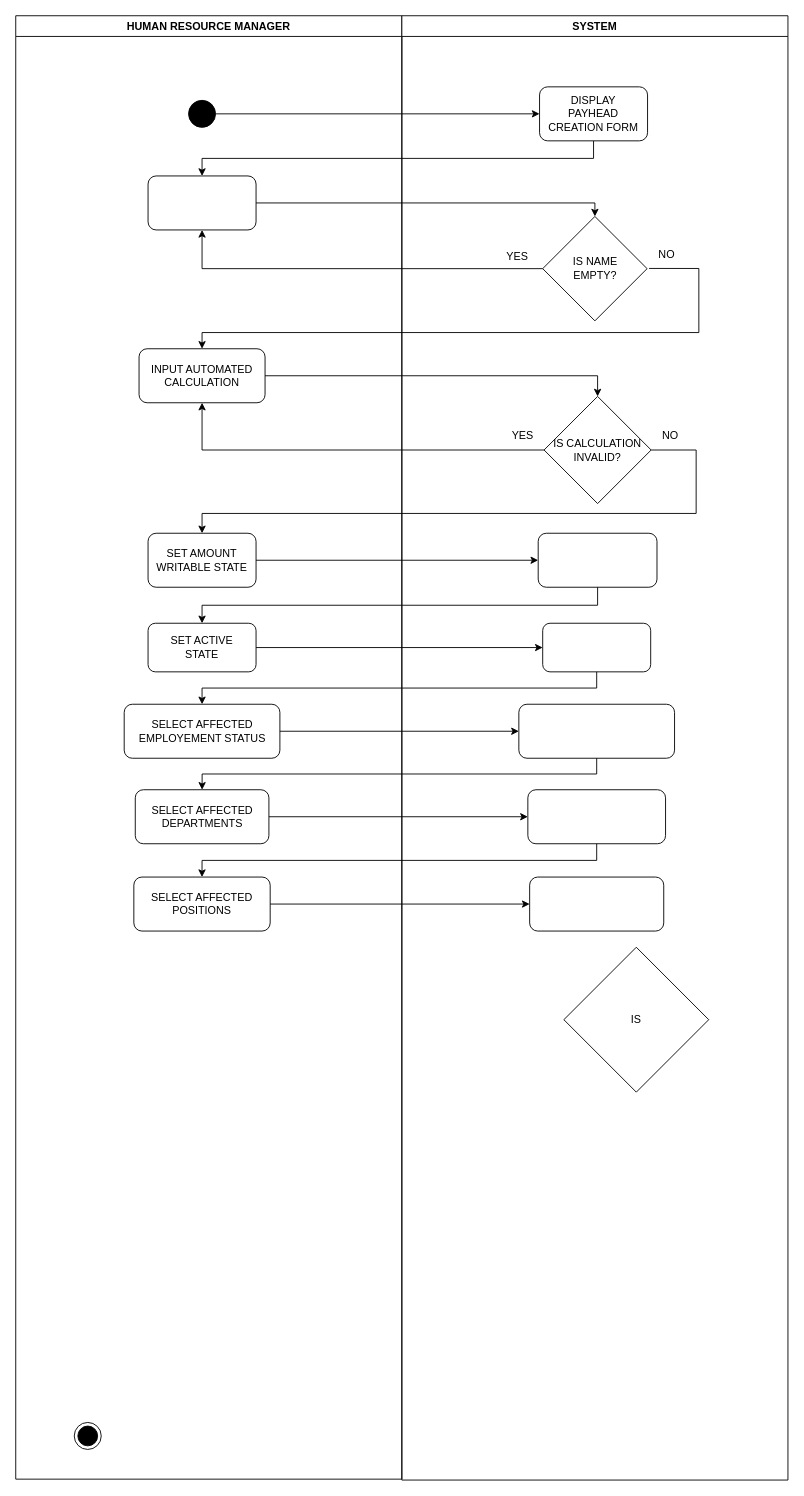
This 804x1496 diagram has some shape labels left out. Here are the shapes that lost their labels. From the top down, the centre of each, then its label:
At (x=201, y=202): "INPUT NAME".
At (x=597, y=559): "DISPLAY WRITABLE STATE".
At (x=596, y=647): "DISPLAY ACTIVE STATE".
At (x=596, y=730): "DISPLAY AFFECTED EMPLOYEMENT STATUS".
At (x=596, y=816): "DISPLAY AFFECTED DEPARTMENTS".
At (x=596, y=903): "DISPLAY AFFECTED POSITIONS".
